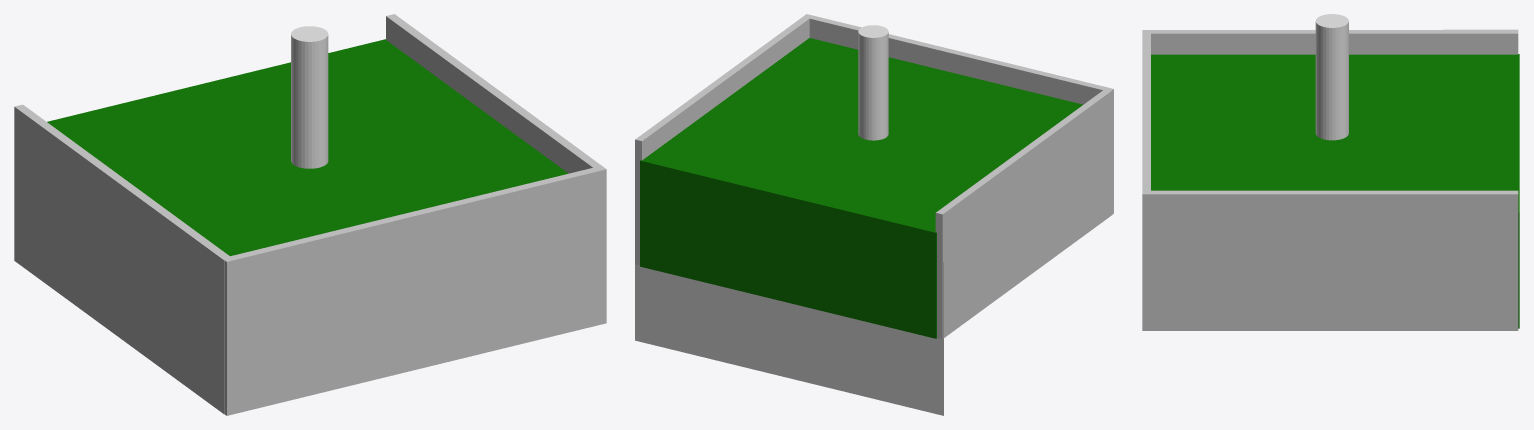
The model's file is raised_hole.gltf.
3 renders of one model, left to right at view 1: azimuth 30°, elevation 25°; view 2: azimuth 150°, elevation 25°; view 3: azimuth 270°, elevation 25°, orthographic. The views are drawn at different scales.
Visible parts, largest first — view 1: Cube.003, Cube, Cube.001, Cube.002, Cylinder; view 2: Cube, obj_snap.001, Cube.001, Cube.003, Cube.002, Cylinder; view 3: Cube.002, Cube, Cube.001, Cylinder, Cube.003.
Part boxes in pixels (x1=…): Cube.003: x1=224, y1=166, x2=606, y2=415; Cube: x1=47, y1=39, x2=568, y2=256; Cube.001: x1=14, y1=104, x2=232, y2=414; Cube.002: x1=386, y1=14, x2=603, y2=173; Cylinder: x1=291, y1=26, x2=328, y2=168; Cube: x1=640, y1=38, x2=1082, y2=338; obj_snap.001: x1=635, y1=262, x2=943, y2=415; Cube.001: x1=935, y1=88, x2=1112, y2=338; Cube.003: x1=805, y1=14, x2=1113, y2=214; Cube.002: x1=635, y1=15, x2=810, y2=265; Cylinder: x1=858, y1=25, x2=888, y2=140; Cube.002: x1=1146, y1=190, x2=1518, y2=330; Cube: x1=1151, y1=54, x2=1519, y2=328; Cube.001: x1=1146, y1=29, x2=1518, y2=54; Cylinder: x1=1315, y1=14, x2=1348, y2=140; Cube.003: x1=1142, y1=30, x2=1150, y2=330.
Size of the model in its own units: 4.21 by 3.72 by 4.07.
